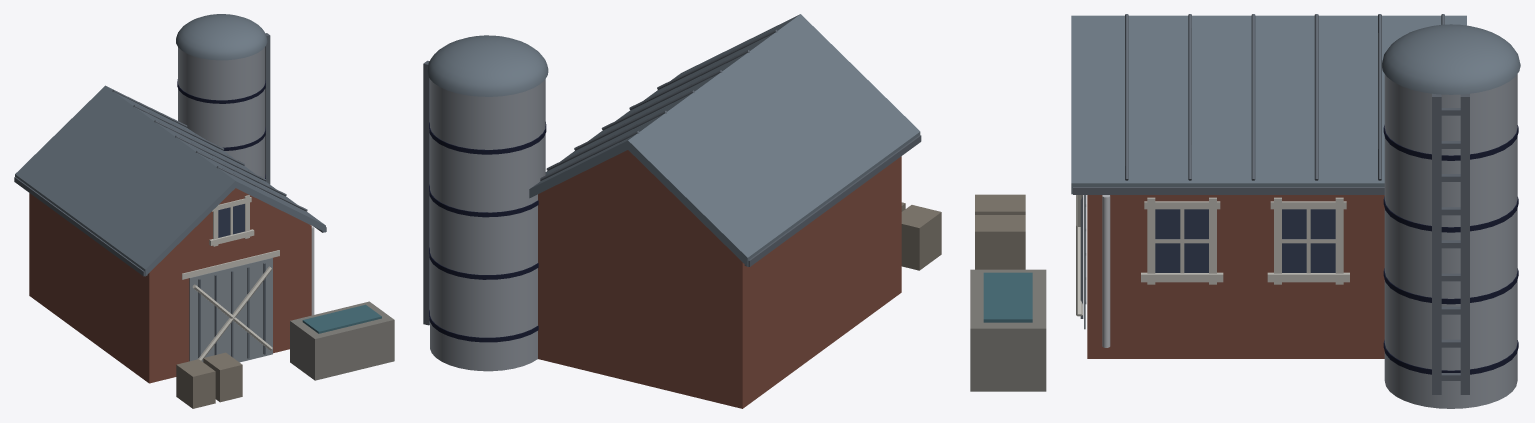
The model's file is farm_building_lvl2.glb.
The picture shows the model from 3 angles, left to right: view 1: azimuth 30°, elevation 25°; view 2: azimuth 150°, elevation 25°; view 3: azimuth 270°, elevation 25°; orthographic projection. The views are drawn at different scales.
Visible parts, largest first — view 1: farm_building; view 2: farm_building; view 3: farm_building.
Boxes of the visible parts, <box> form: farm_building: <box>14,14,394,408</box>; farm_building: <box>423,14,941,408</box>; farm_building: <box>970,14,1520,408</box>.
Bounding box in the file's own units: 0.4796 × 0.4245 × 0.6155.
